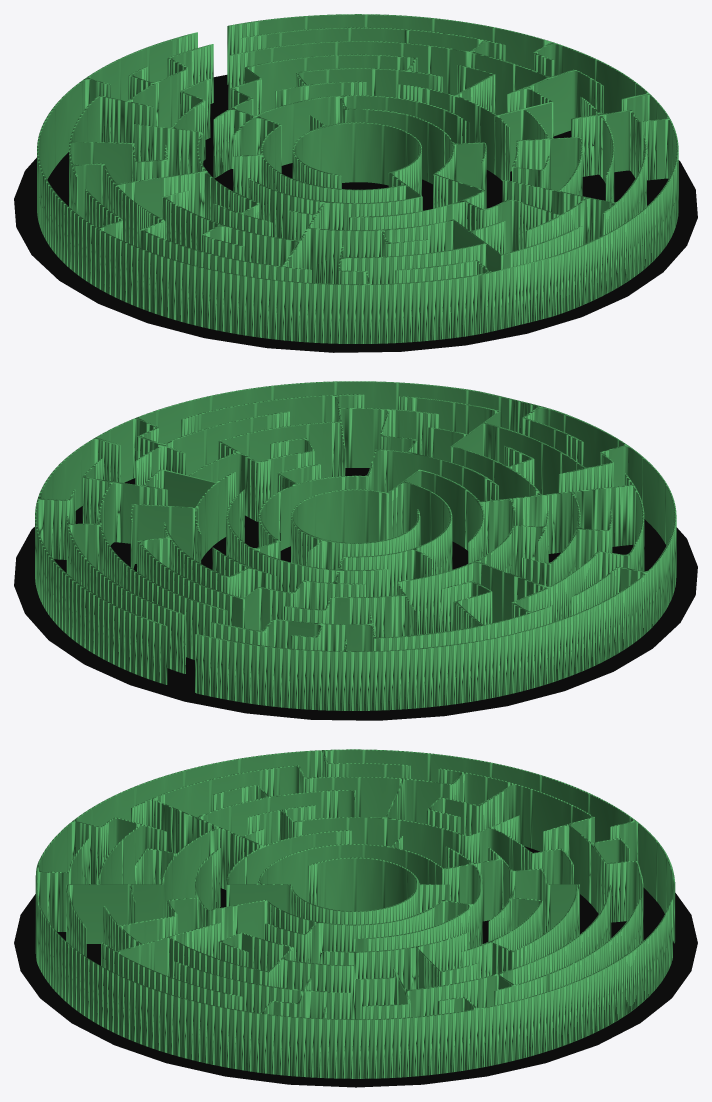
3 renders of one model, top to bottom at view 1: azimuth 30°, elevation 25°; view 2: azimuth 150°, elevation 25°; view 3: azimuth 270°, elevation 25°, orthographic.
Visible parts, largest first — view 1: imagetostl_mesh_0, Circle_1; view 2: imagetostl_mesh_0, Circle_1; view 3: imagetostl_mesh_0, Circle_1.
Part boxes in pixels (x1,y1,x2,y2): imagetostl_mesh_0: (37,14,678,343); Circle_1: (14,75,697,352); imagetostl_mesh_0: (35,381,676,710); Circle_1: (14,468,697,720); imagetostl_mesh_0: (35,749,675,1078); Circle_1: (14,846,697,1087).
Bounding box in the file's own units: 106 × 10 × 106.
